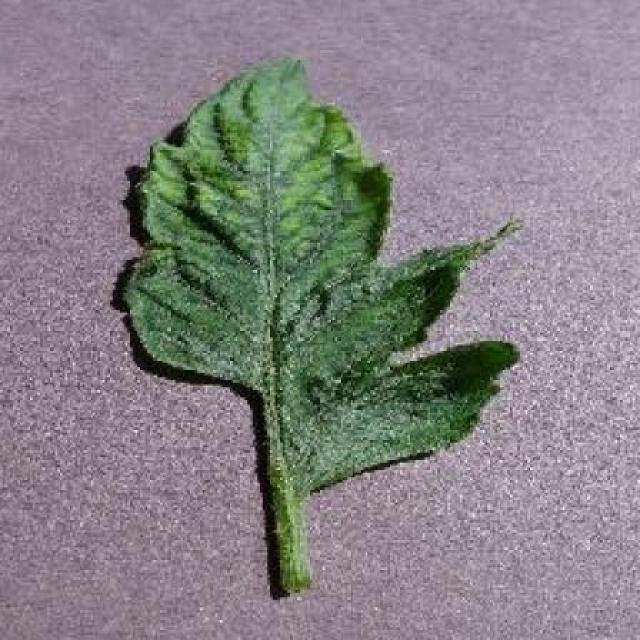Mosaic Virus: (116, 41, 518, 490)
